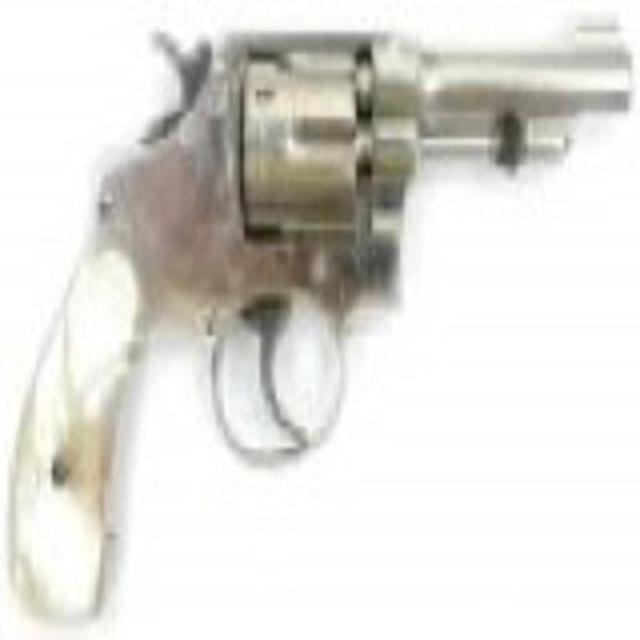pistol: (20, 15, 631, 602)
